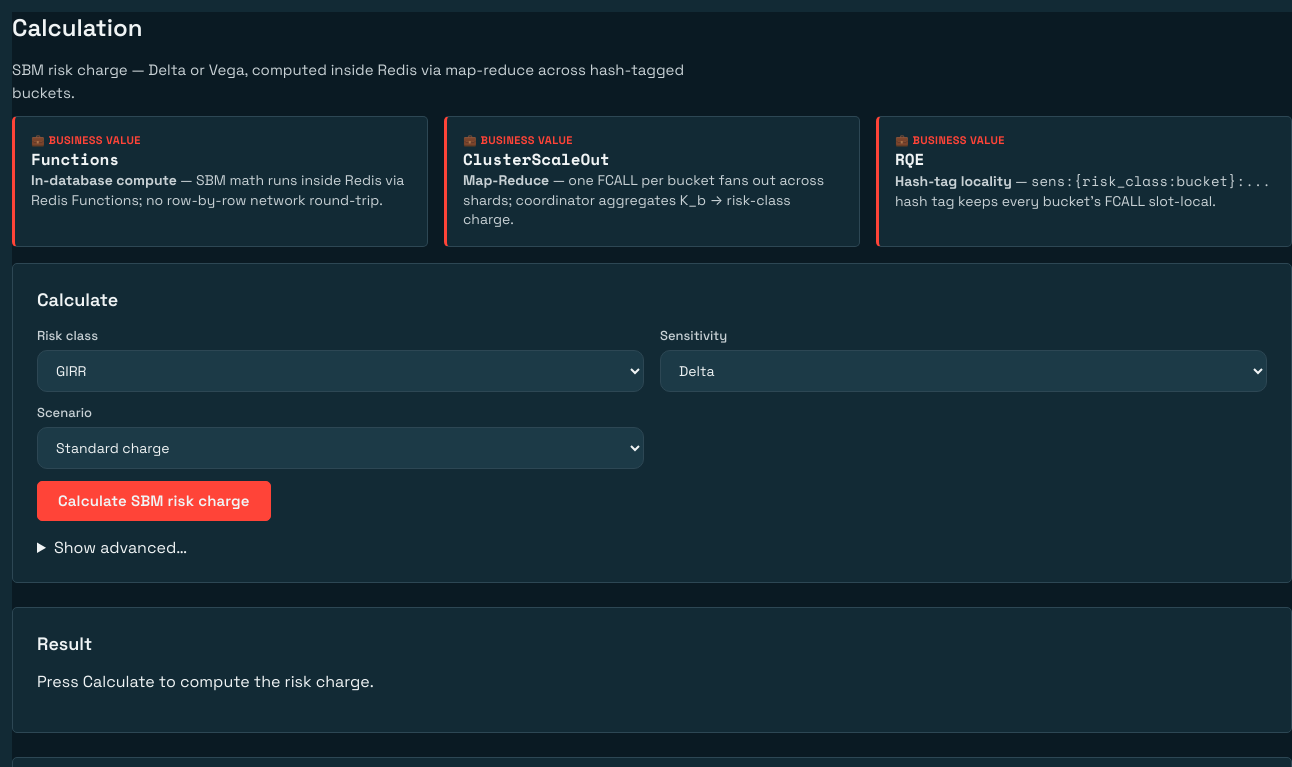
Test: <CalcPanel /> friendly empty-target banner (Wave 5.16z3) › 503 no-data-or-index response renders the amber banner with risk_class + measure + hint
This screenshot has width=1292, height=767.
Click the button "Calculate SBM risk charge" at (154, 501), box [37,481,271,521]
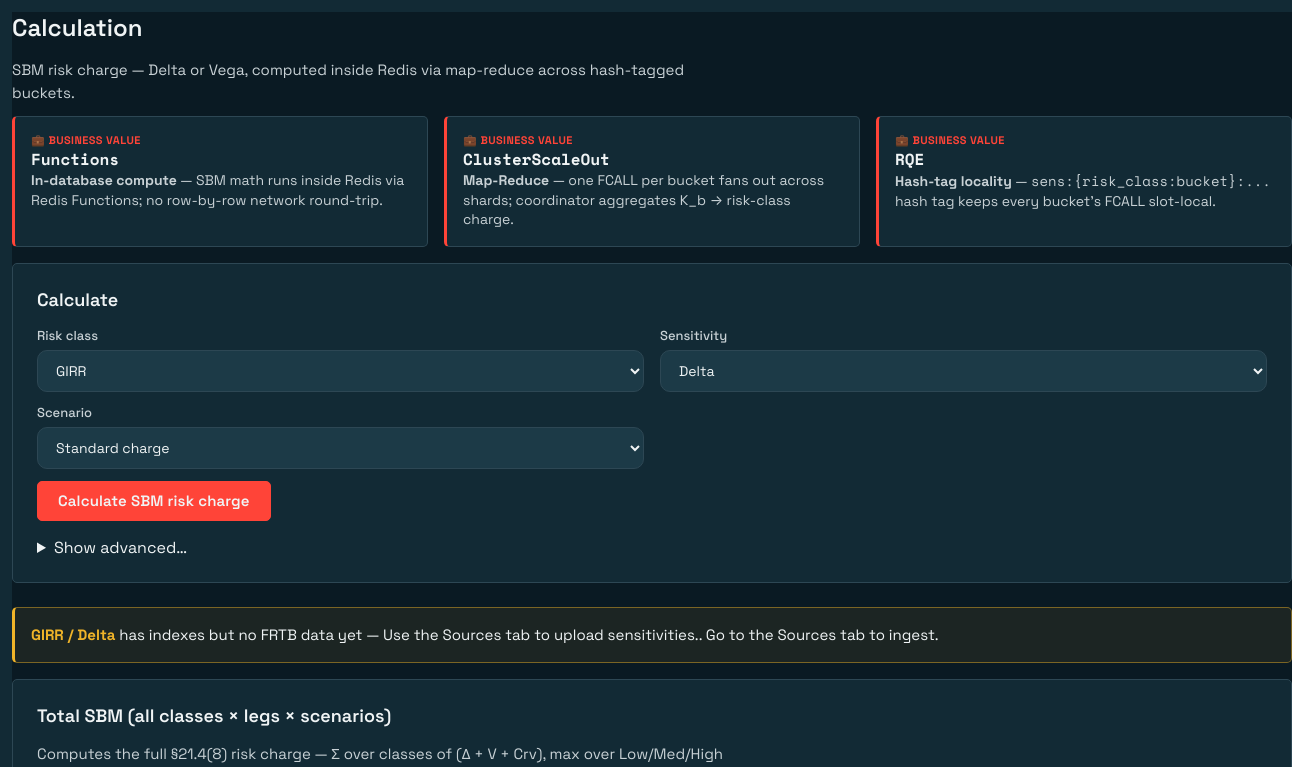
Expected: the message with test id "empty-target-banner" shows "GIRR", [31,625,64,644]
Expected: the message with test id "empty-target-banner" shows "Delta", [64,625,116,644]
Expected: the message with test id "empty-target-banner" shows "Use the Sources tab to upload sensitivities", [383,625,699,644]
